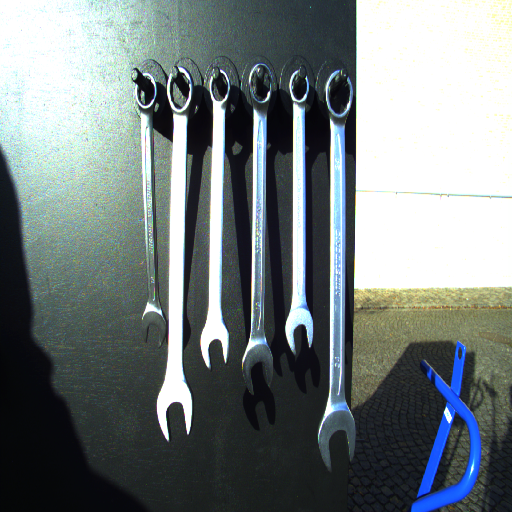bottom: (311, 407, 361, 472), (156, 383, 195, 444), (242, 346, 278, 397), (281, 310, 319, 358), (197, 323, 231, 373), (139, 307, 167, 347)
top: (165, 64, 198, 118), (322, 67, 354, 121), (246, 60, 273, 109), (132, 71, 160, 113), (286, 67, 312, 105), (207, 67, 231, 106)
